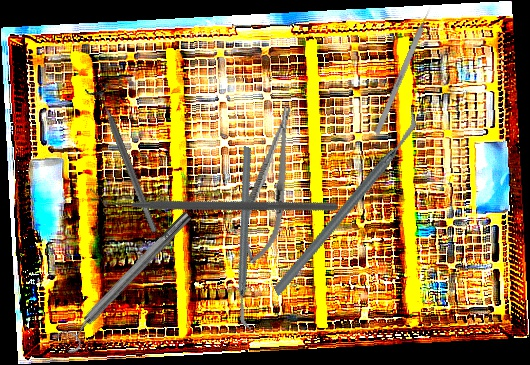Chopper: (88, 82, 340, 314), (229, 107, 462, 298), (174, 145, 321, 331)
Fixation Ring: (52, 205, 200, 357), (83, 79, 167, 238)
Hook Surgical: (373, 1, 436, 135)
Needle Holder: (232, 102, 309, 268)
